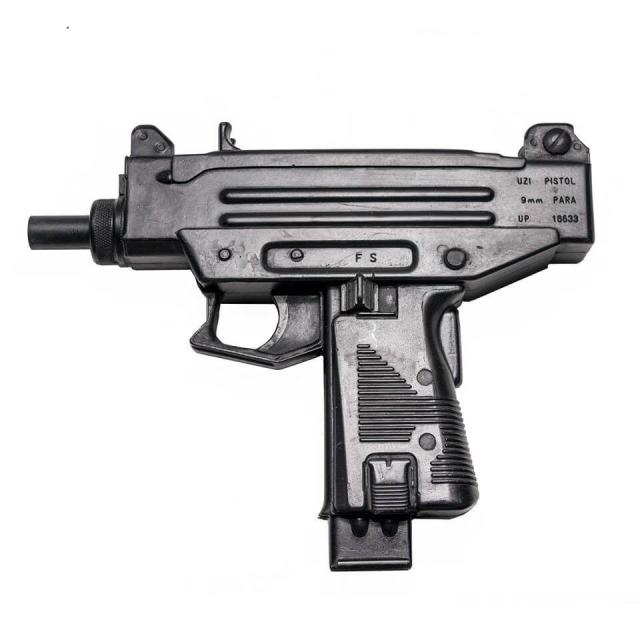SMG: (27, 123, 597, 575)
